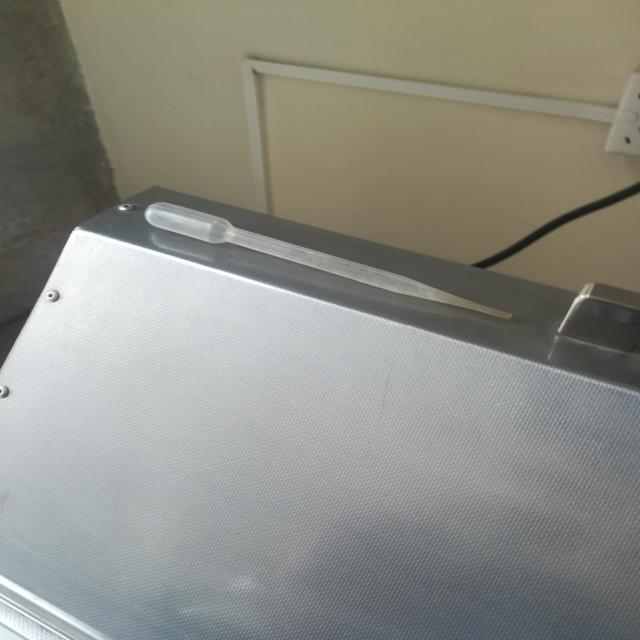Pipette: (99, 158, 547, 400)
